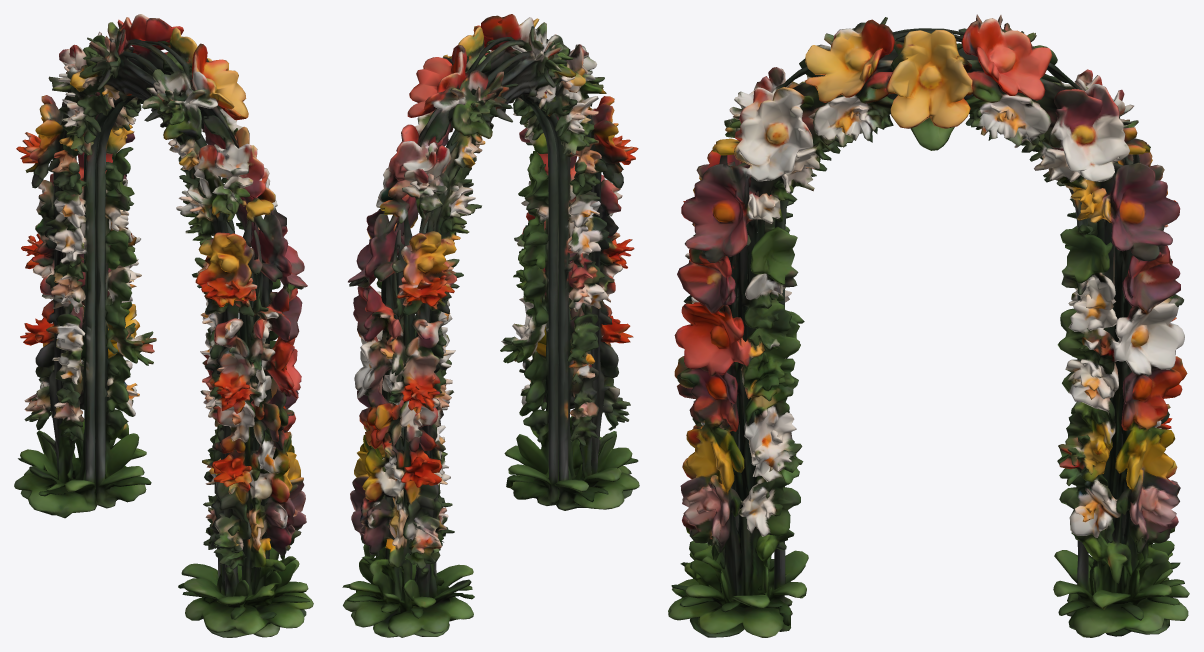
Rendered from prop-arch-flowers.glb.
3 renders of one model, left to right at view 1: azimuth 30°, elevation 25°; view 2: azimuth 150°, elevation 25°; view 3: azimuth 270°, elevation 25°, orthographic. The views are drawn at different scales.
Visible parts, largest first — view 1: tripo_node_c247098a-ed1f-4828-aa6d-88a869aec579; view 2: tripo_node_c247098a-ed1f-4828-aa6d-88a869aec579; view 3: tripo_node_c247098a-ed1f-4828-aa6d-88a869aec579.
Boxes of the visible parts, bbox=[...] form: tripo_node_c247098a-ed1f-4828-aa6d-88a869aec579: bbox=[14, 14, 313, 637]; tripo_node_c247098a-ed1f-4828-aa6d-88a869aec579: bbox=[342, 14, 639, 637]; tripo_node_c247098a-ed1f-4828-aa6d-88a869aec579: bbox=[668, 14, 1189, 637].
Size of the model in its own units: 0.8032 by 3.5 by 2.75.
1 material, 1 textured.
